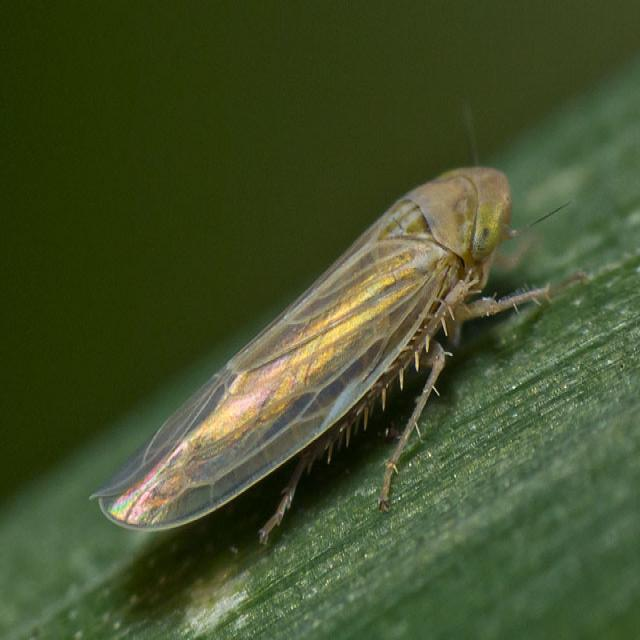Yechan: (83, 151, 536, 576)
